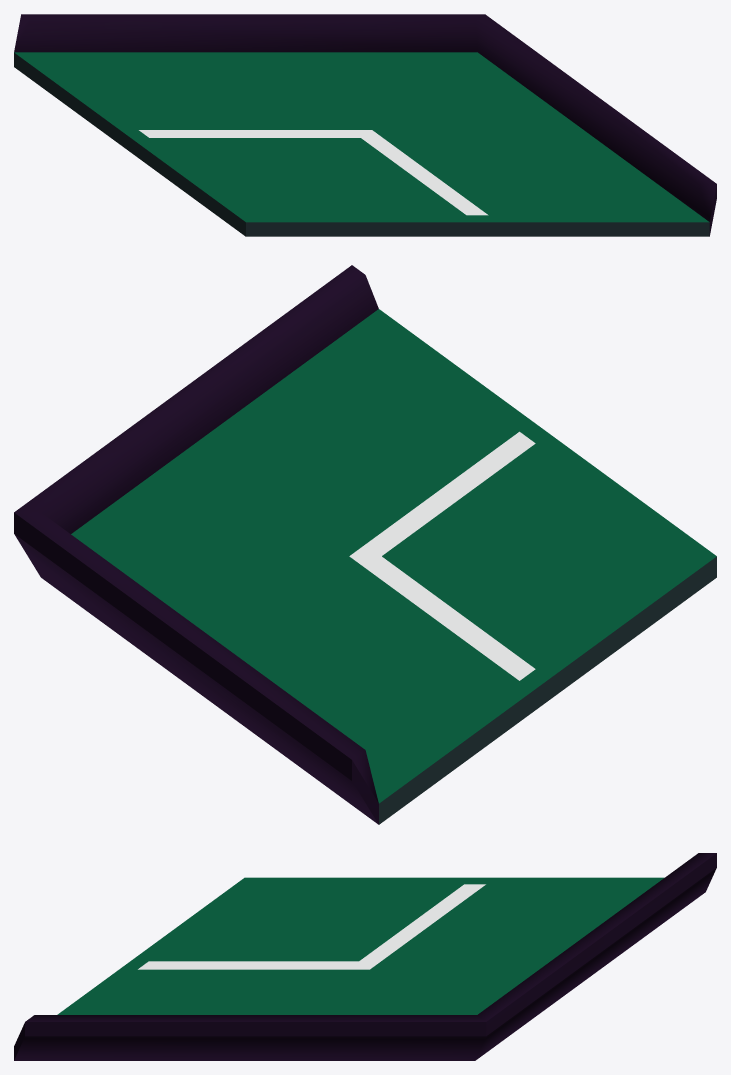
The model's file is right_sharp2.fbx.
3 renders of one model, top to bottom at view 1: azimuth 30°, elevation 25°; view 2: azimuth 150°, elevation 25°; view 3: azimuth 270°, elevation 25°, orthographic. The views are drawn at different scales.
Visible parts, largest first — view 1: right_sharp2; view 2: right_sharp2; view 3: right_sharp2.
Boxes of the visible parts, bbox=[...] form: right_sharp2: bbox=[14, 14, 716, 236]; right_sharp2: bbox=[14, 265, 716, 824]; right_sharp2: bbox=[14, 853, 716, 1060].
Size of the model in its own units: 25.93 by 3.13 by 44.01.
1 material, 1 textured.
